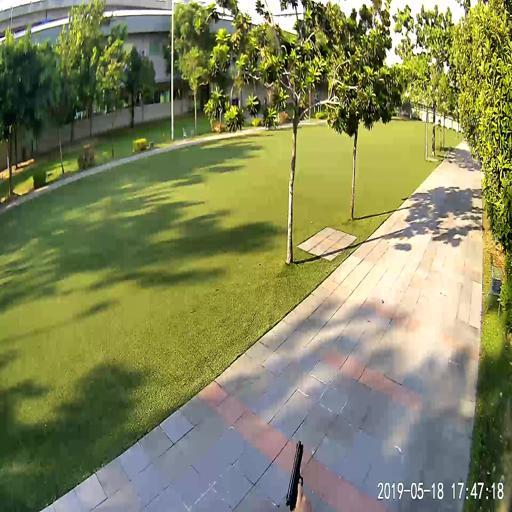Handgun: (285, 437, 303, 511)
